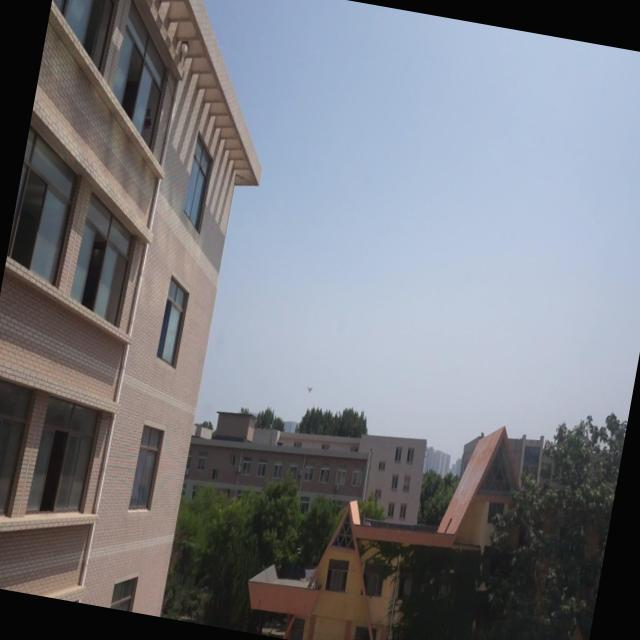drone: (303, 379, 317, 396)
